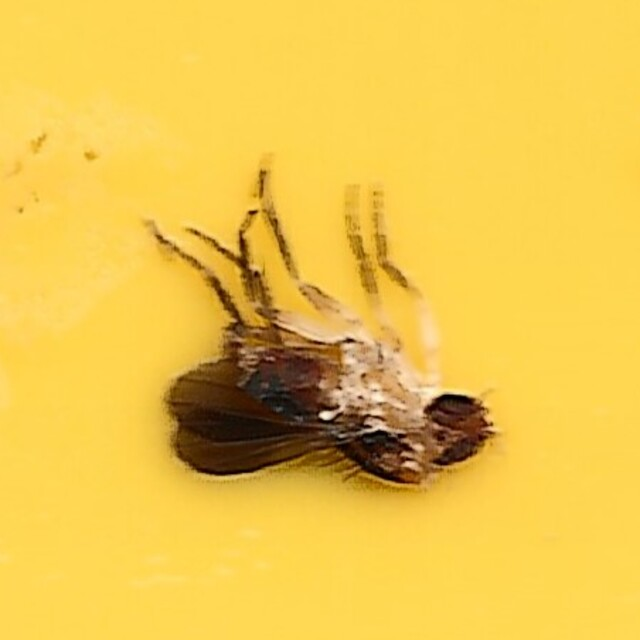Brachycera: (142, 151, 498, 489)
